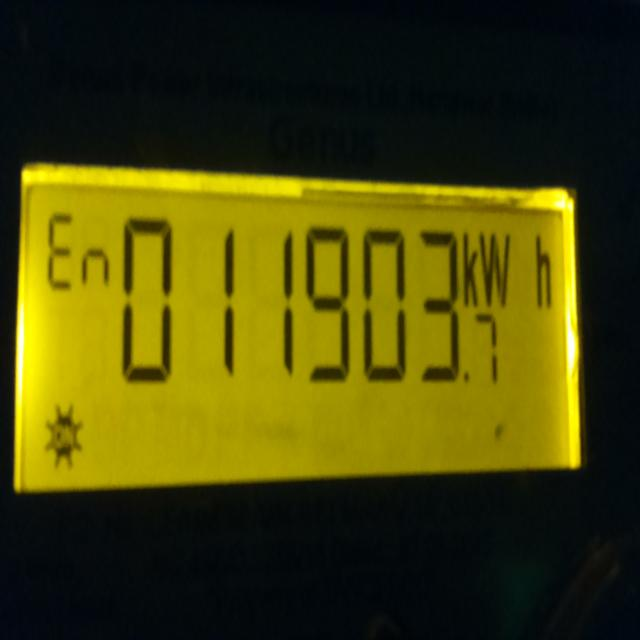.: (463, 371, 469, 384)
0: (125, 218, 172, 387), (362, 230, 406, 384)
1: (222, 230, 235, 376), (282, 233, 292, 375)
3: (422, 230, 458, 382)
7: (478, 310, 498, 377)
9: (306, 224, 349, 383)
